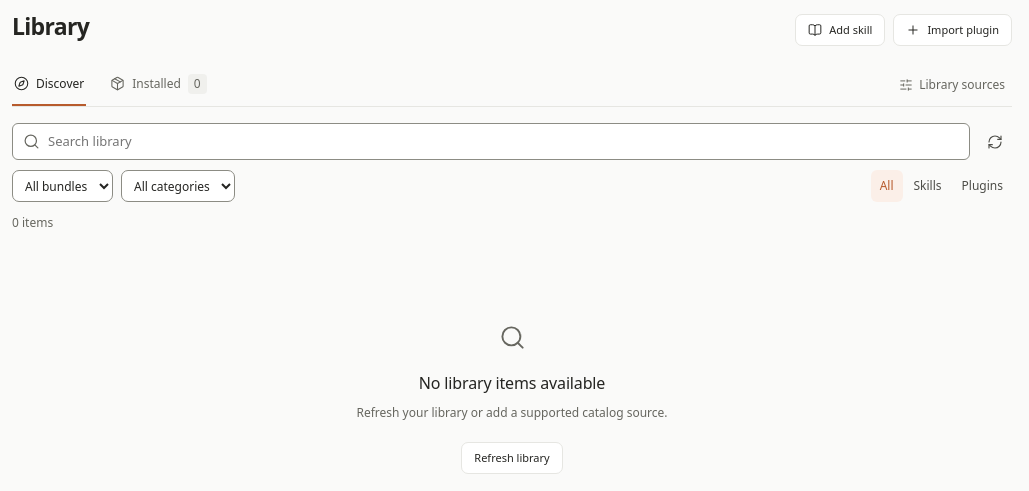
Test: Library current loading and error copy › keeps the true empty collection invitation after successful reads
Click the button "Installed 0" at coordinates (158, 85), box [108,64,209,106]
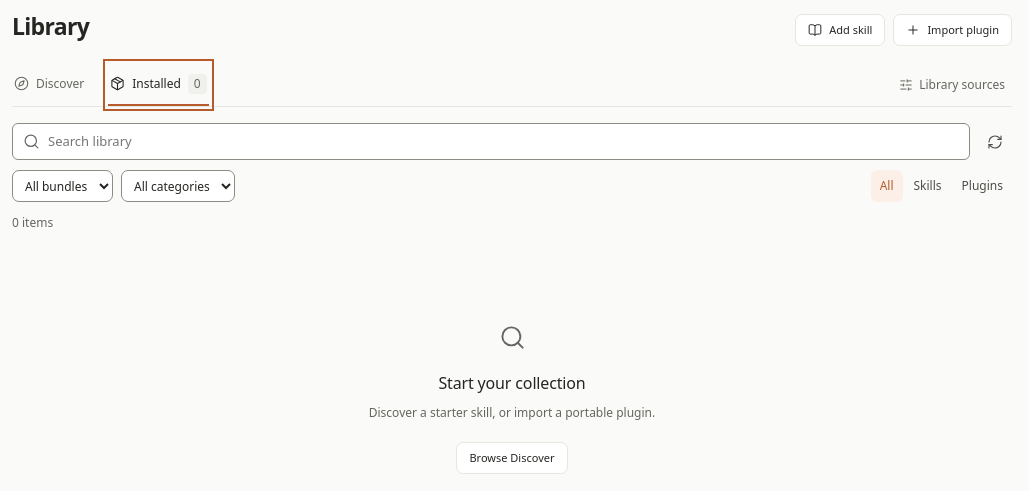
expect the heading "Start your collection" is shown: met, box [438,371,586,395]
